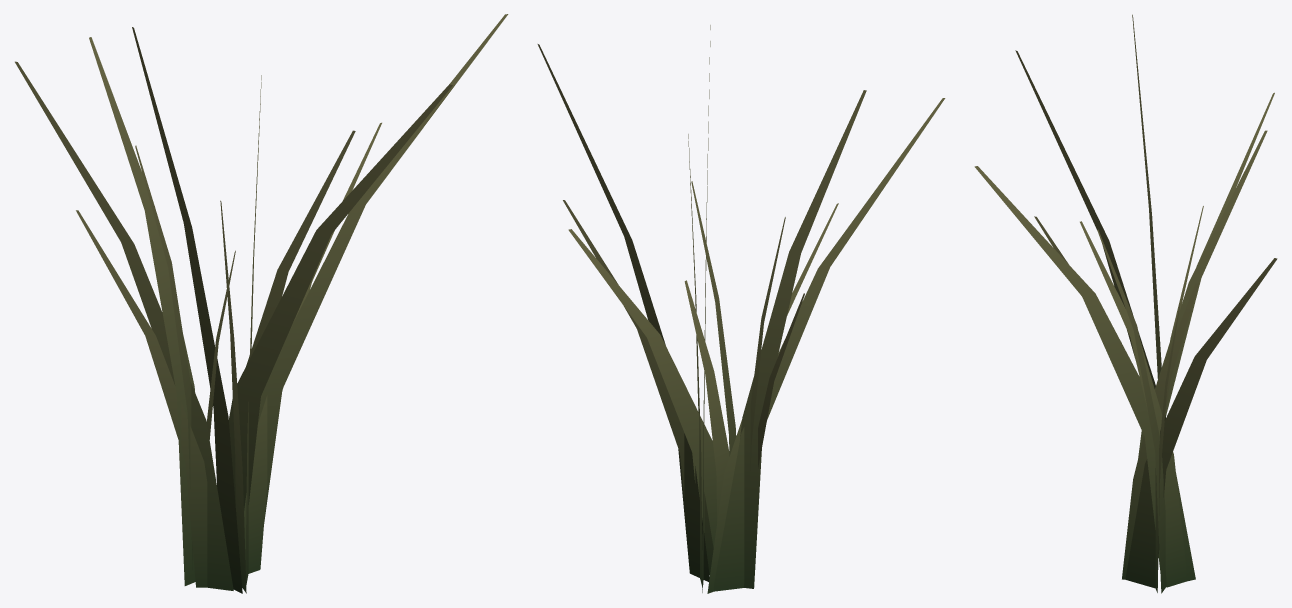
Rendered from tall.glb.
The picture shows the model from 3 angles, left to right: view 1: azimuth 30°, elevation 25°; view 2: azimuth 150°, elevation 25°; view 3: azimuth 270°, elevation 25°; orthographic projection. The views are drawn at different scales.
Parts seen in each view (by area): view 1: part_0; view 2: part_0; view 3: part_0.
Boxes of the visible parts, left/top/right/bottom form: part_0: left=15, top=14, right=508, bottom=593; part_0: left=537, top=25, right=945, bottom=593; part_0: left=974, top=14, right=1277, bottom=593.
Bounding box in the file's own units: 0.6446 × 0.8601 × 0.4707.
